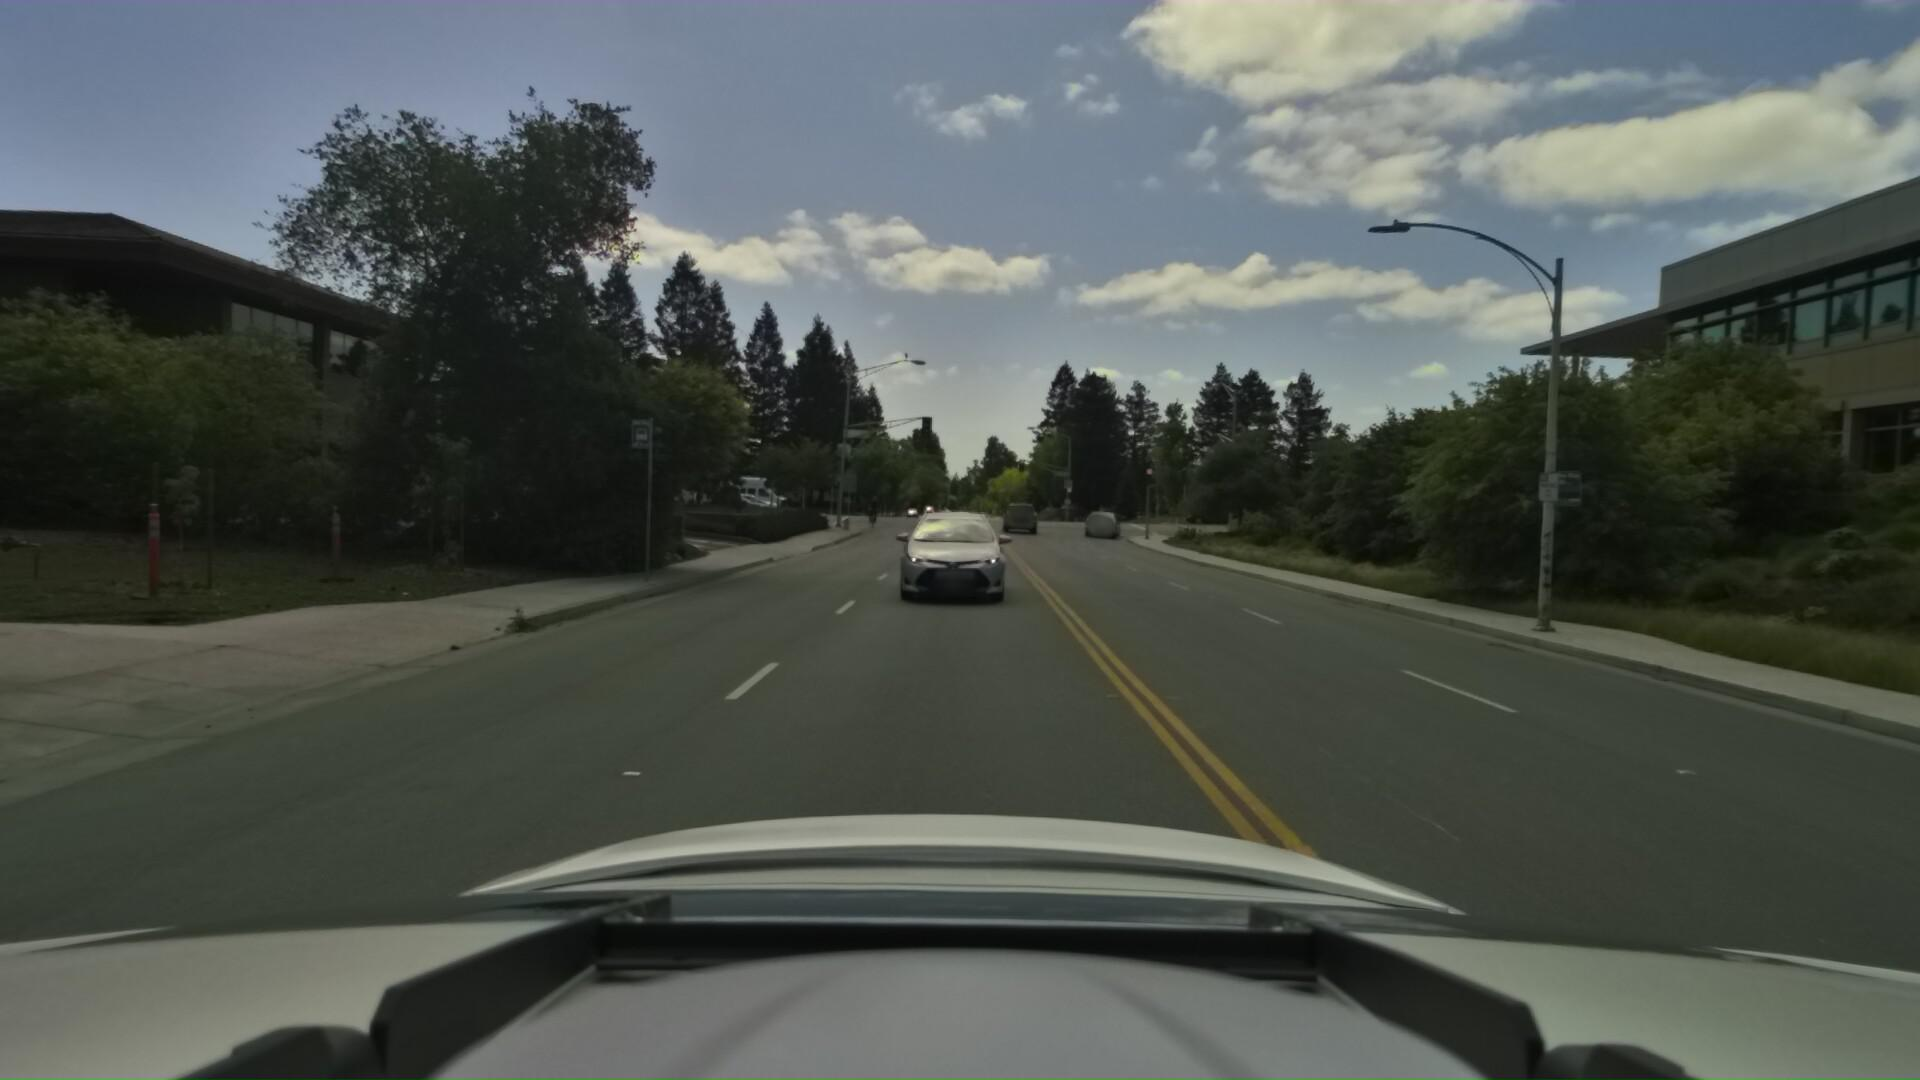bicycle: (864, 487, 880, 520)
car: (884, 491, 1004, 597), (708, 468, 794, 506), (720, 483, 787, 506), (1077, 498, 1127, 530), (1179, 493, 1245, 514), (1000, 495, 1039, 527)
